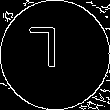L_S: (40, 30, 70, 80)
